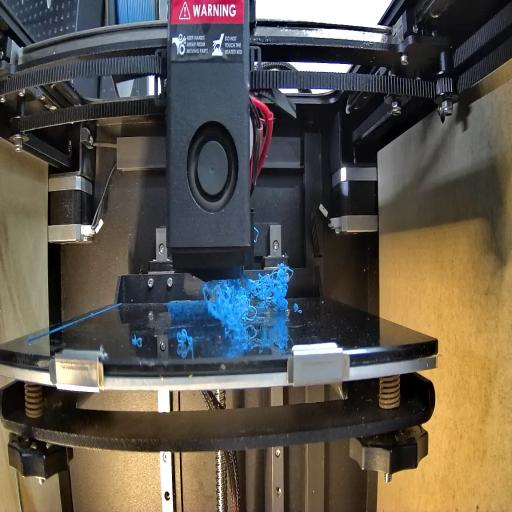spaghetti: (204, 276, 294, 324), (172, 325, 191, 344)
